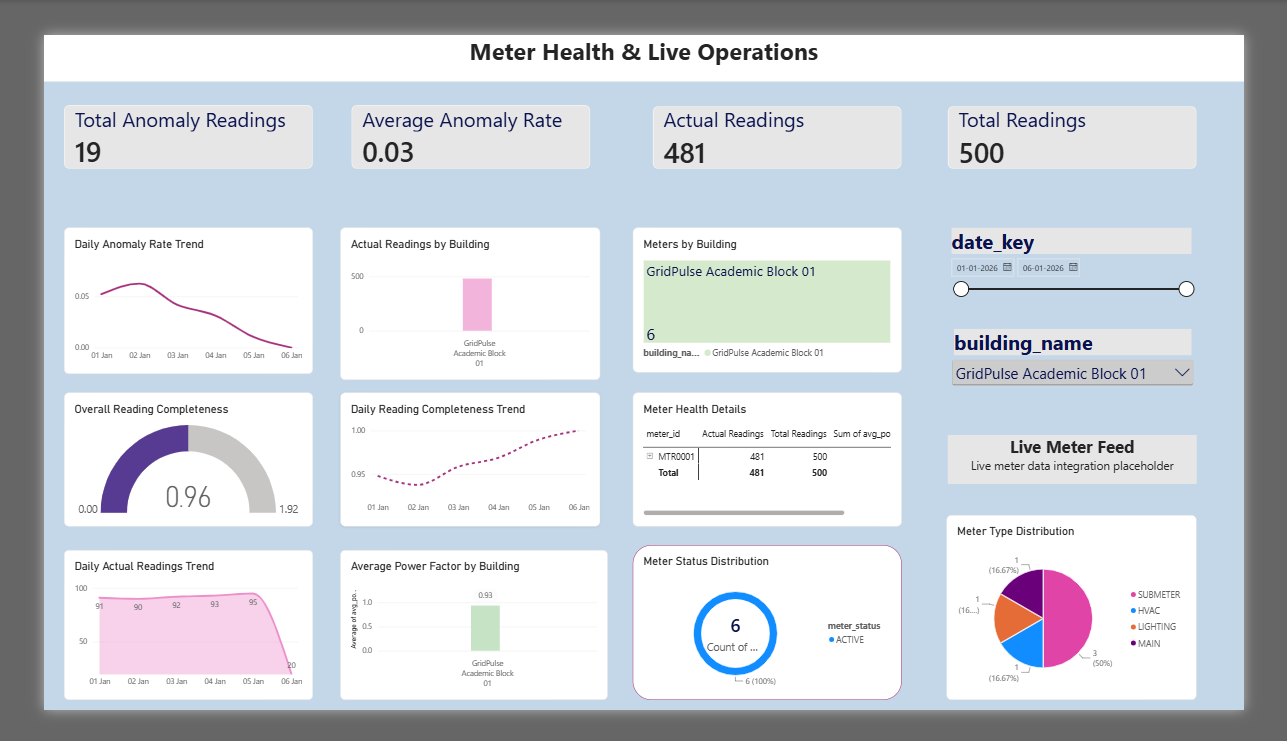

Layout of this report page (visuals, bound fields, positions):
{"tool":"powerbi","page":{"name":"Page 3","canvas":[1920,1080],"ordinal":2},"visuals":[{"type":"textbox","box":[0,0,1920,74],"z":0},{"type":"cardVisual","fields":{"Data":["agg_building_consumption_daily.Total Anomaly Readings"]},"box":[32,112,398,102],"z":1000},{"type":"cardVisual","fields":{"Data":["agg_building_consumption_daily.Average Anomaly Rate"]},"box":[492,112,382,102],"z":2000},{"type":"cardVisual","fields":{"Data":["agg_building_consumption_daily.Actual Readings"]},"box":[974,114,398,100],"z":3000},{"type":"cardVisual","fields":{"Data":["agg_building_consumption_daily.Total Readings"]},"box":[1446,114,398,100],"z":4000},{"type":"lineChart","title":"Daily Anomaly Rate Trend","fields":{"Category":["agg_campus_anomaly_daily.date_key"],"Y":["agg_building_consumption_daily.Average Anomaly Rate"]},"box":[32,308,398,234],"z":5000},{"type":"clusteredColumnChart","title":"Actual Readings by Building","fields":{"Category":["dim_building.building_name"],"Y":["agg_building_consumption_daily.Actual Readings"]},"box":[474,308,416,244],"z":6000},{"type":"lineChart","title":"Daily Actual Readings Trend","fields":{"Category":["agg_meter_health_daily.date_key"],"Y":["agg_building_consumption_daily.Actual Readings"]},"box":[32,824,398,240],"z":7000},{"type":"clusteredColumnChart","title":"Average Power Factor by Building","fields":{"Category":["dim_building.building_name"],"Y":["Avg(agg_meter_health_daily.avg_power_factor)"]},"box":[474,824,428,240],"z":8000},{"type":"lineChart","title":"Daily Reading Completeness Trend","fields":{"Category":["agg_meter_health_daily.date_key"],"Y":["agg_building_consumption_daily.Reading Completeness"]},"box":[474,572,416,214],"z":9000},{"type":"donutChart","title":"Meter Status Distribution","fields":{"Category":["dim_meter.meter_status"],"Y":["CountNonNull(dim_meter.meter_id)"]},"box":[942,816,430,248],"z":10000},{"type":"gauge","title":"Overall Reading Completeness","fields":{"Y":["agg_building_consumption_daily.Reading Completeness"]},"box":[32,572,398,214],"z":11000},{"type":"treemap","title":"Meters by Building","fields":{"Group":["dim_building.building_name"],"Values":["CountNonNull(dim_meter.meter_id)"]},"box":[942,308,430,232],"z":12000},{"type":"pivotTable","title":"Meter Health Details","fields":{"Rows":["dim_meter.meter_id","dim_building.building_name"],"Values":["agg_building_consumption_daily.Actual Readings","agg_building_consumption_daily.Total Readings","Sum(agg_meter_health_daily.avg_power_factor)"]},"box":[942,572,430,214],"z":13000},{"type":"pieChart","title":"Meter Type Distribution","fields":{"Category":["dim_meter.meter_type"],"Y":["CountNonNull(dim_meter.meter_id)"]},"box":[1444,768,400,296],"z":14000},{"type":"textbox","box":[1446,640,398,78],"z":15000},{"type":"slicer","fields":{"Values":["dim_date.date_key"]},"box":[1444,308,400,244],"z":16000},{"type":"slicer","fields":{"Values":["dim_building.building_name"]},"box":[1448,470,396,102],"z":17000}]}

Visuals, with their boxes in screenshot pixels (x1, y1, x2, y2), scaled from the page's 1920x1080 canvas onto the 1287x741 screenshot:
textbox: crop(0, 0, 1286, 51)
cardVisual - agg_building_consumption_daily.Total Anomaly Readings: crop(21, 77, 288, 147)
cardVisual - agg_building_consumption_daily.Average Anomaly Rate: crop(330, 77, 586, 147)
cardVisual - agg_building_consumption_daily.Actual Readings: crop(653, 78, 920, 147)
cardVisual - agg_building_consumption_daily.Total Readings: crop(969, 78, 1236, 147)
"Daily Anomaly Rate Trend" lineChart: crop(21, 211, 288, 372)
"Actual Readings by Building" clusteredColumnChart: crop(318, 211, 597, 379)
"Daily Actual Readings Trend" lineChart: crop(21, 565, 288, 730)
"Average Power Factor by Building" clusteredColumnChart: crop(318, 565, 605, 730)
"Daily Reading Completeness Trend" lineChart: crop(318, 392, 597, 539)
"Meter Status Distribution" donutChart: crop(631, 560, 920, 730)
"Overall Reading Completeness" gauge: crop(21, 392, 288, 539)
"Meters by Building" treemap: crop(631, 211, 920, 370)
"Meter Health Details" pivotTable: crop(631, 392, 920, 539)
"Meter Type Distribution" pieChart: crop(968, 527, 1236, 730)
textbox: crop(969, 439, 1236, 493)
slicer - dim_date.date_key: crop(968, 211, 1236, 379)
slicer - dim_building.building_name: crop(971, 322, 1236, 392)
